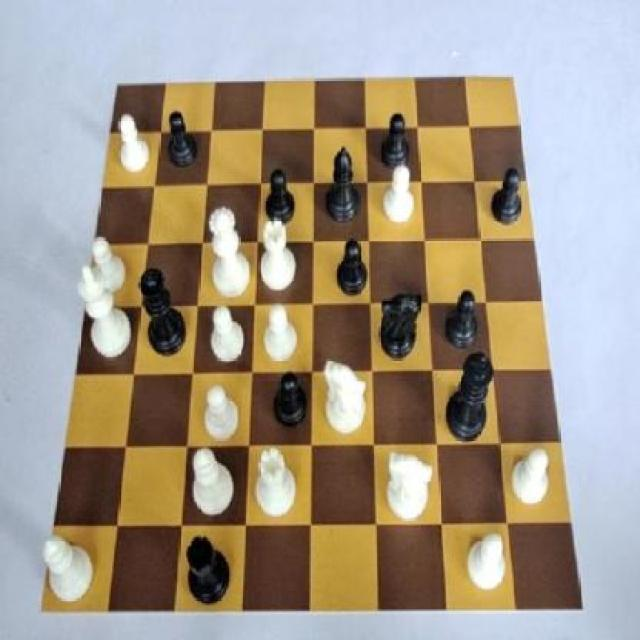bishop: (322, 138, 366, 227)
black-bishop: (443, 348, 497, 443)
black-king: (377, 288, 426, 370)
black-knight: (438, 289, 482, 354), (375, 106, 414, 179), (268, 370, 312, 432), (331, 239, 372, 303), (162, 104, 198, 174), (489, 160, 524, 229), (262, 169, 300, 230)
black-pawn: (134, 270, 191, 362)
black-queen: (183, 526, 235, 604)
black-rook: (40, 531, 96, 607), (191, 446, 241, 516)
white-bishop: (204, 202, 253, 298)
white-king: (384, 443, 436, 526), (323, 360, 371, 442)
white-knight: (508, 445, 559, 517), (463, 526, 511, 599), (208, 300, 254, 369), (85, 235, 130, 303), (196, 383, 242, 447), (258, 300, 301, 365), (115, 110, 151, 182), (380, 165, 415, 229)
white-pawn: (72, 263, 133, 366)
white-queen: (254, 446, 301, 522), (256, 216, 300, 296)
